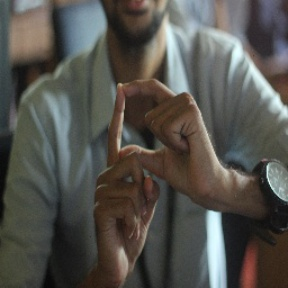D: (103, 76, 192, 192)
